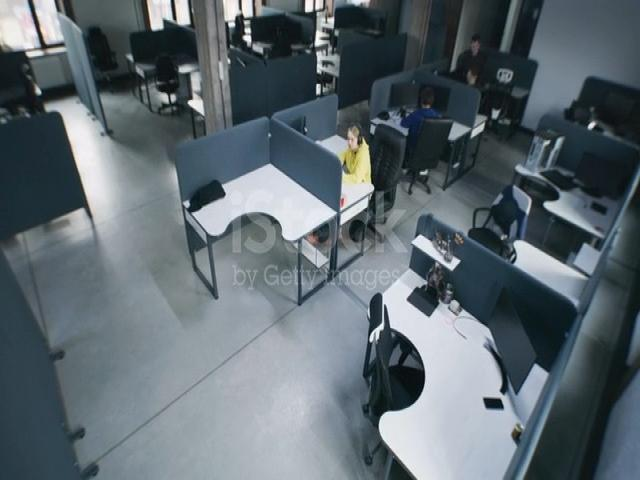empty chair: (351, 290, 404, 464), (458, 184, 538, 270), (148, 41, 188, 121), (82, 13, 114, 85), (302, 40, 338, 102), (15, 41, 40, 120)
occupiedchair: (336, 115, 408, 246), (410, 68, 450, 183), (564, 88, 632, 134), (466, 63, 494, 159)
